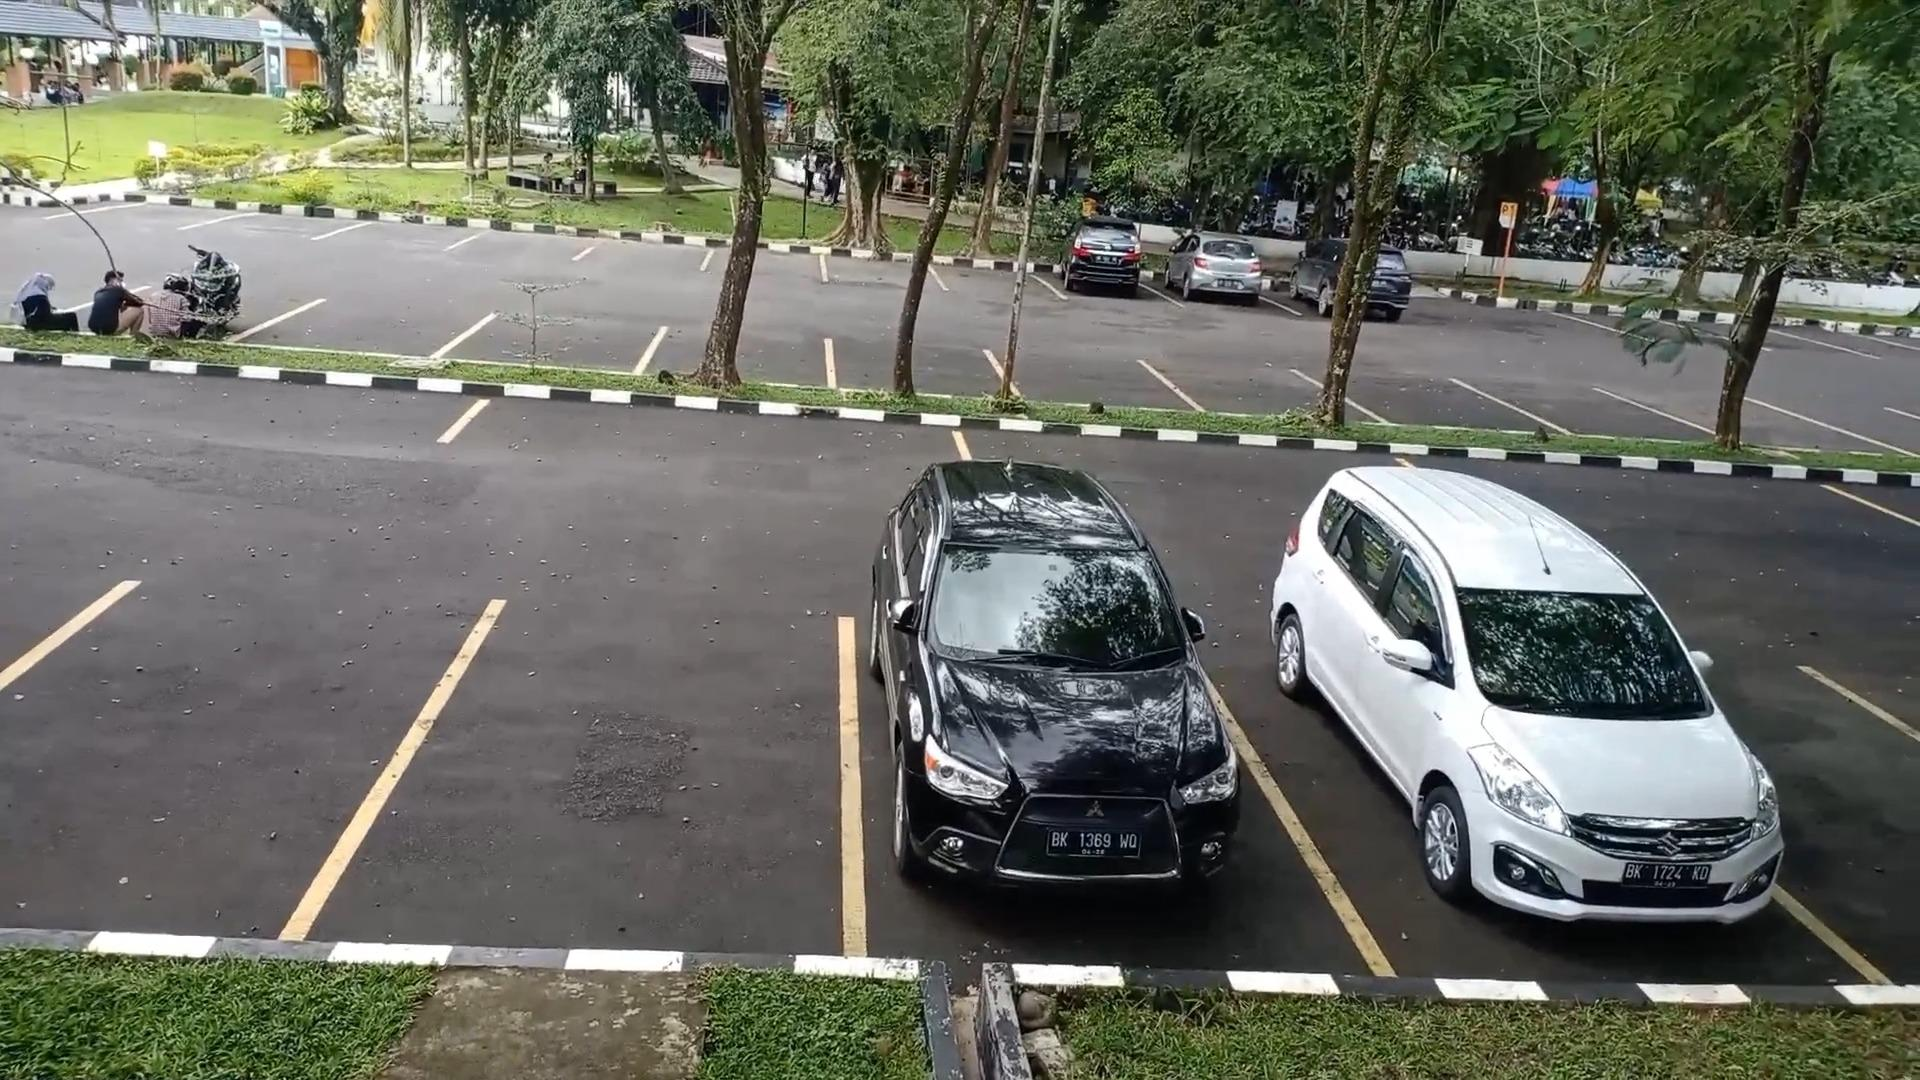empty: (409, 606, 862, 941), (0, 588, 414, 942), (991, 349, 1192, 406), (271, 299, 477, 354), (469, 312, 666, 368), (1344, 369, 1514, 433), (1177, 362, 1364, 419), (656, 325, 837, 382), (822, 337, 1005, 390), (1520, 382, 1686, 435)
occupied: (1266, 595, 1782, 984), (841, 605, 1272, 955), (1162, 238, 1278, 312), (1048, 241, 1161, 308)
